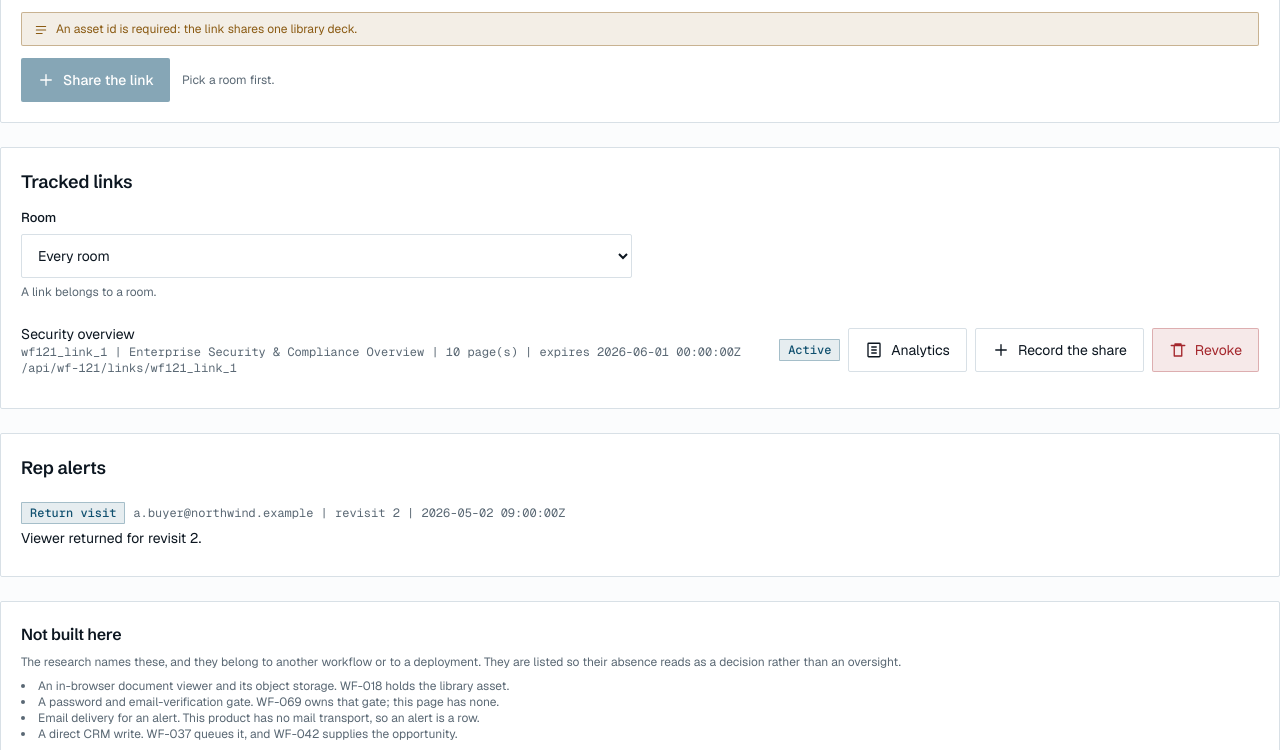
Test: the page › shows the pages one buyer read when the viewer is opened
This screenshot has width=1280, height=750.
(page scrolled)
Click the button "Analytics" at {"x": 908, "y": 350}, box [848,328,967,372]
(page scrolled)
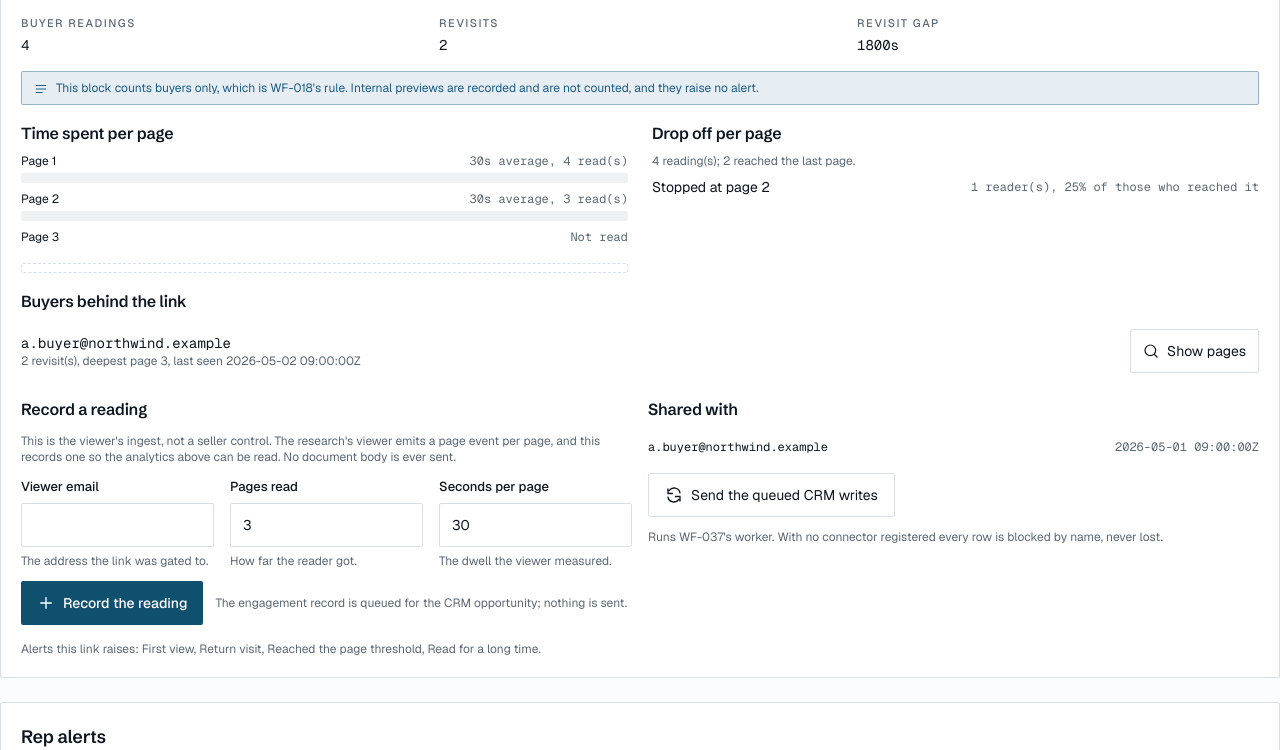
Click the button "Show pages" at {"x": 1195, "y": 350}, box [1130,328,1259,372]
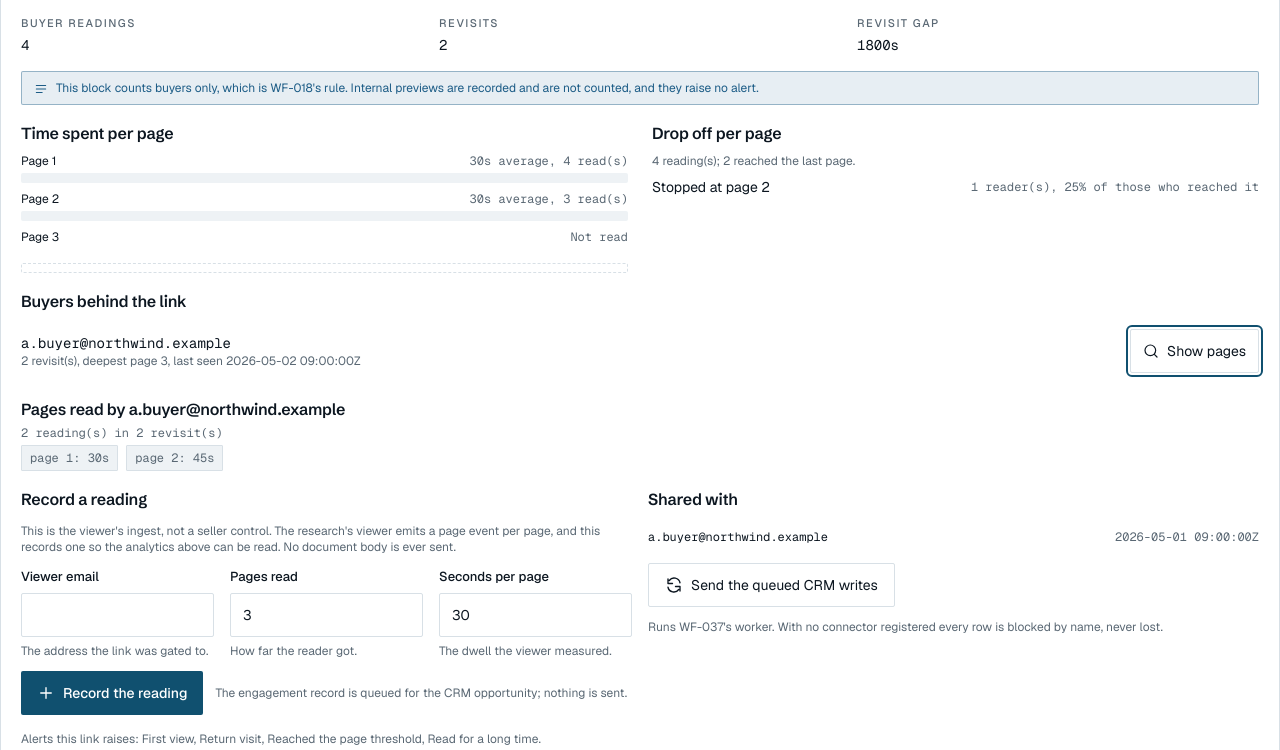
Expected: the heading "Pages read by a.buyer@northwind.example" is shown, [21,398,345,418]
